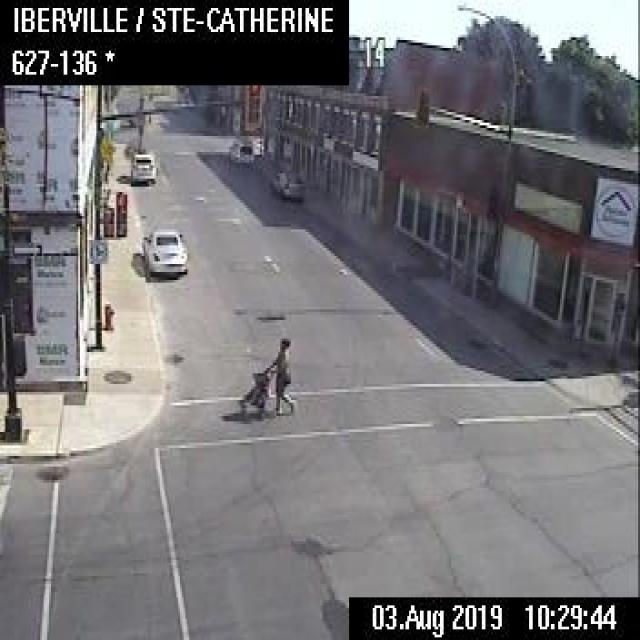pedestrian: (238, 336, 298, 419)
vehicle: (141, 227, 187, 275), (269, 167, 306, 199), (129, 150, 156, 184), (226, 136, 252, 164)
